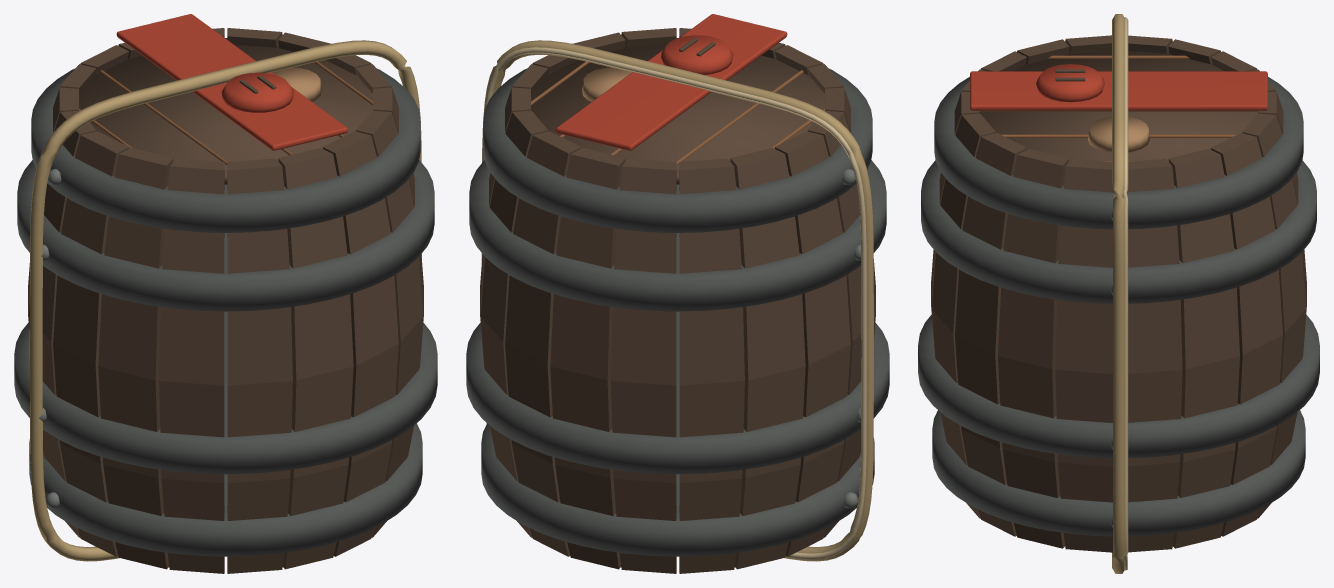
Rendered from powder.glb.
3 views of the same model, side by side, from view 1: azimuth 30°, elevation 25°; view 2: azimuth 150°, elevation 25°; view 3: azimuth 270°, elevation 25° (orthographic). The views are drawn at different scales.
Visible parts, largest first — view 1: Cargo_powder; view 2: Cargo_powder; view 3: Cargo_powder.
Part boxes in pixels (x1=…): Cargo_powder: x1=14, y1=14, x2=437, y2=573; Cargo_powder: x1=466, y1=14, x2=889, y2=573; Cargo_powder: x1=918, y1=14, x2=1319, y2=573.
Size of the model in its own units: 0.62 by 0.7037 by 0.5801.
